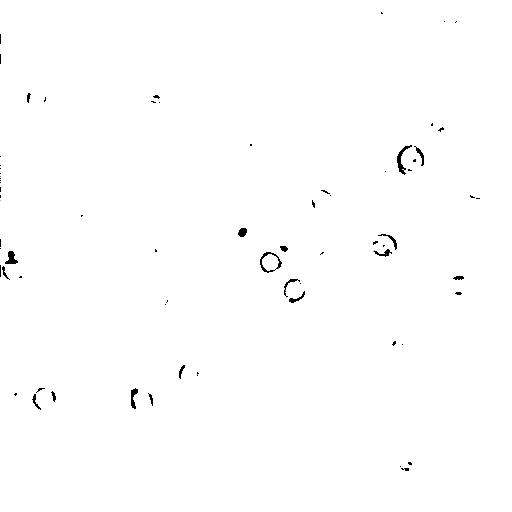micro-algae: (105, 375, 151, 419), (109, 10, 147, 47), (67, 199, 100, 241), (234, 127, 269, 164), (223, 214, 261, 247), (395, 144, 427, 177), (267, 232, 301, 263), (313, 13, 343, 47), (463, 170, 492, 201), (284, 57, 315, 85), (24, 82, 50, 114), (128, 386, 154, 417), (376, 154, 402, 185), (0, 241, 26, 271), (308, 188, 335, 216), (392, 450, 421, 475), (370, 234, 399, 258), (434, 9, 465, 31), (32, 385, 57, 412), (163, 291, 190, 315), (447, 274, 475, 297), (257, 249, 282, 274), (283, 278, 308, 303), (364, 1, 390, 25), (178, 360, 201, 387), (168, 0, 192, 25), (2, 259, 27, 282), (428, 112, 453, 133), (7, 384, 30, 404), (149, 233, 167, 256), (314, 250, 335, 267), (391, 338, 407, 359), (2, 36, 8, 60)
